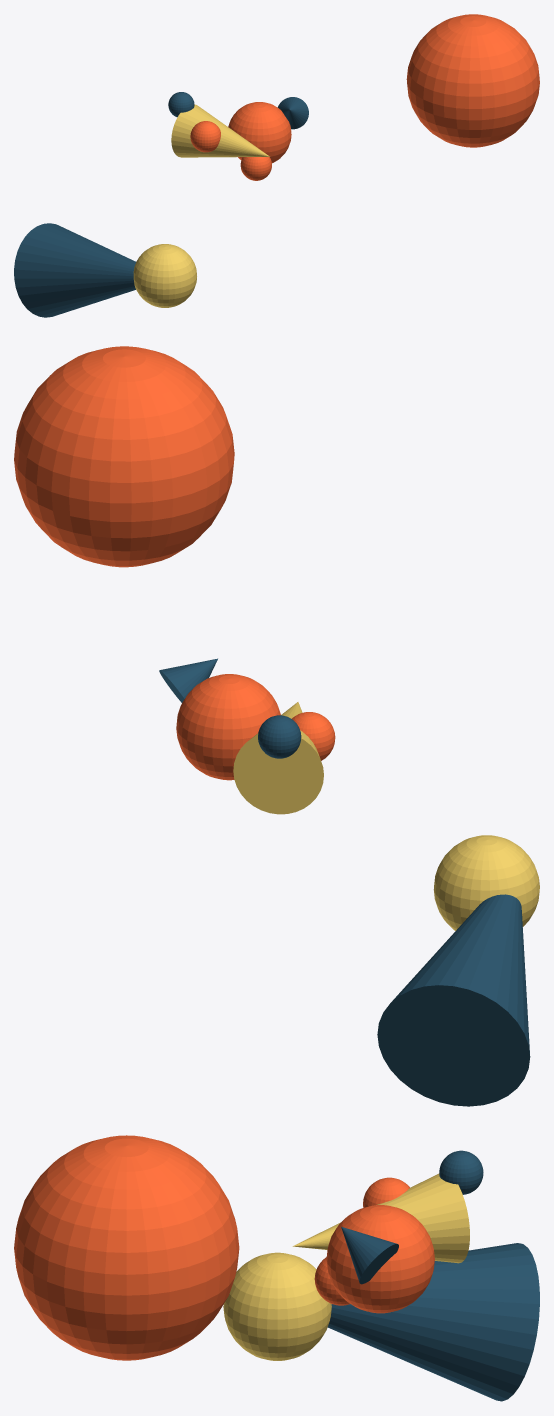
File: outerBlobs.gltf
3 views of the same model, one above another, from view 1: azimuth 30°, elevation 25°; view 2: azimuth 150°, elevation 25°; view 3: azimuth 270°, elevation 25° (orthographic). The views are drawn at different scales.
Visible parts, largest first — view 1: Sphere.004, Cone.002, Sphere.005, Sphere, Cone.001, Sphere.003, Cone, Sphere.001, Sphere.002; view 2: Sphere.004, Cone.002, Sphere, Sphere.005, Cone.001, Sphere.002, Cone, Sphere.003; view 3: Sphere.004, Cone.002, Sphere.005, Sphere, Cone.001, Cone, Sphere.002, Sphere.003, Sphere.001.
Boxes of the visible parts, x1,y1,x2,y2 form: Sphere.004: (406, 14, 539, 147); Cone.002: (14, 223, 135, 317); Sphere.005: (133, 244, 196, 307); Sphere: (228, 102, 291, 163); Cone.001: (171, 104, 269, 157); Sphere.003: (190, 121, 220, 152); Cone: (277, 97, 308, 129); Sphere.001: (240, 157, 271, 180); Sphere.002: (168, 92, 194, 117); Sphere.004: (14, 346, 234, 567); Cone.002: (377, 894, 530, 1106); Sphere: (176, 674, 280, 780); Sphere.005: (433, 835, 539, 930); Cone.001: (233, 702, 323, 814); Sphere.002: (258, 715, 301, 758); Cone: (159, 658, 217, 702); Sphere.003: (292, 712, 335, 760); Sphere.004: (14, 1135, 239, 1360); Cone.002: (327, 1243, 539, 1401); Sphere.005: (223, 1252, 331, 1360); Sphere: (326, 1205, 434, 1313); Cone.001: (292, 1173, 469, 1263); Cone: (341, 1226, 398, 1284); Sphere.002: (439, 1150, 483, 1194); Sphere.003: (363, 1177, 409, 1207); Sphere.001: (314, 1257, 349, 1305).
Size of the model in its own units: 30.01 by 20.88 by 19.77.
